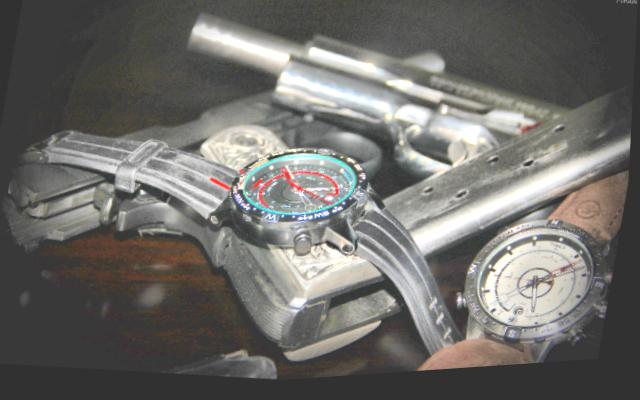pistol: (0, 4, 455, 397), (157, 0, 639, 282)
